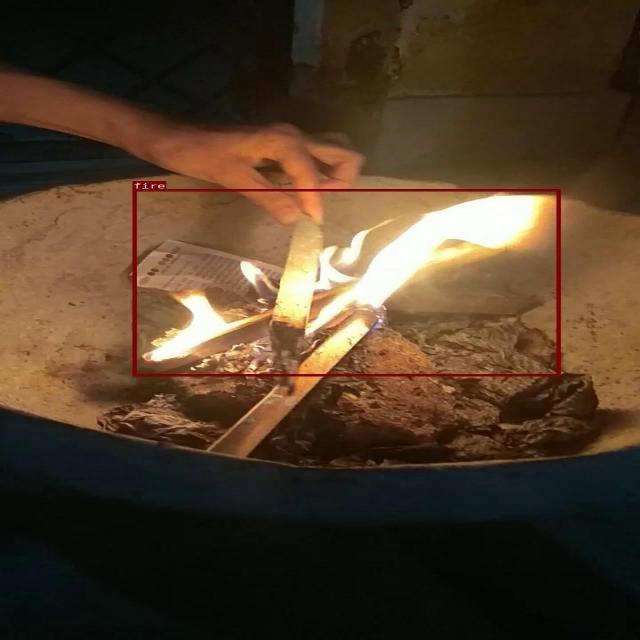fire: (133, 189, 560, 376)
